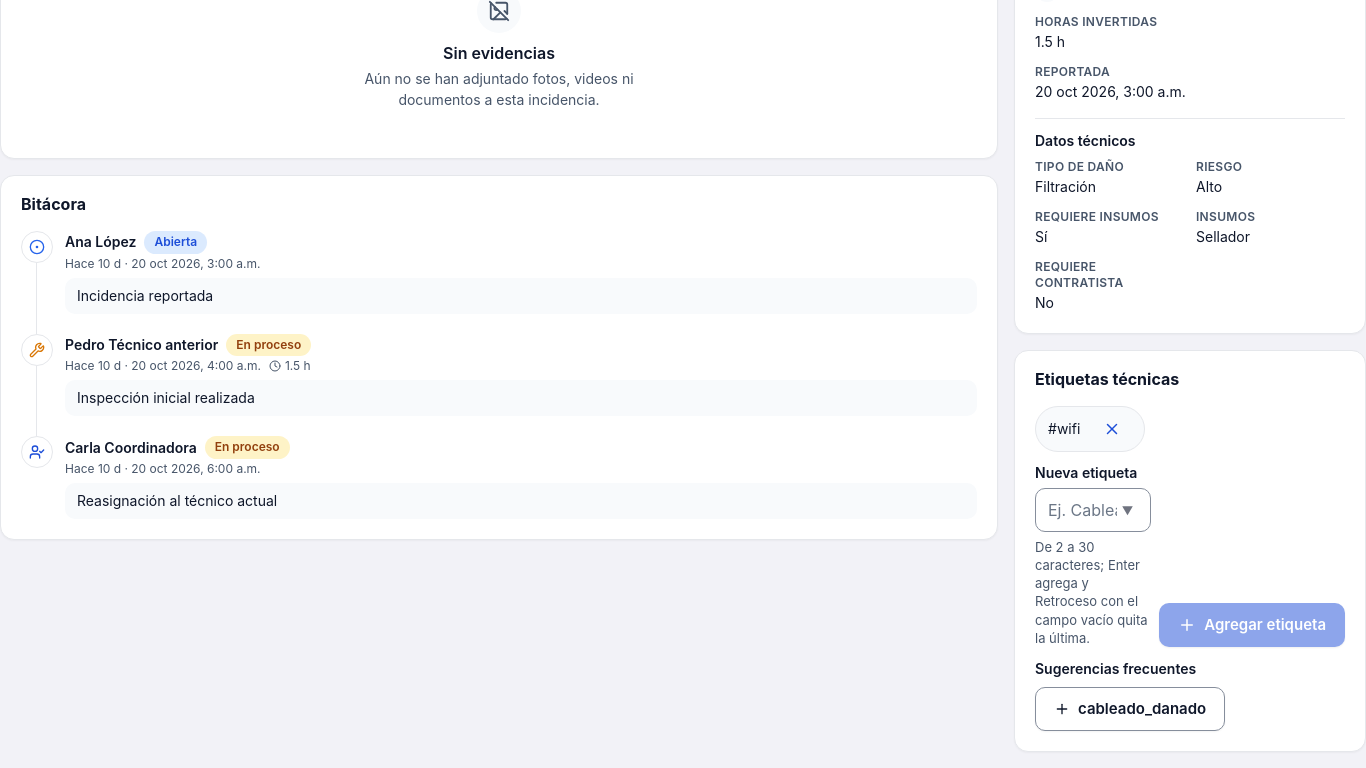
Scenario: EditorTags (T-053) › muestra autocompletado con datos reales cuando el usuario posee analitica:ver
(page scrolled)
Click the button with aria-label "Agregar sugerencia cableado_danado" at (1130, 709), box [1035,687,1225,731]
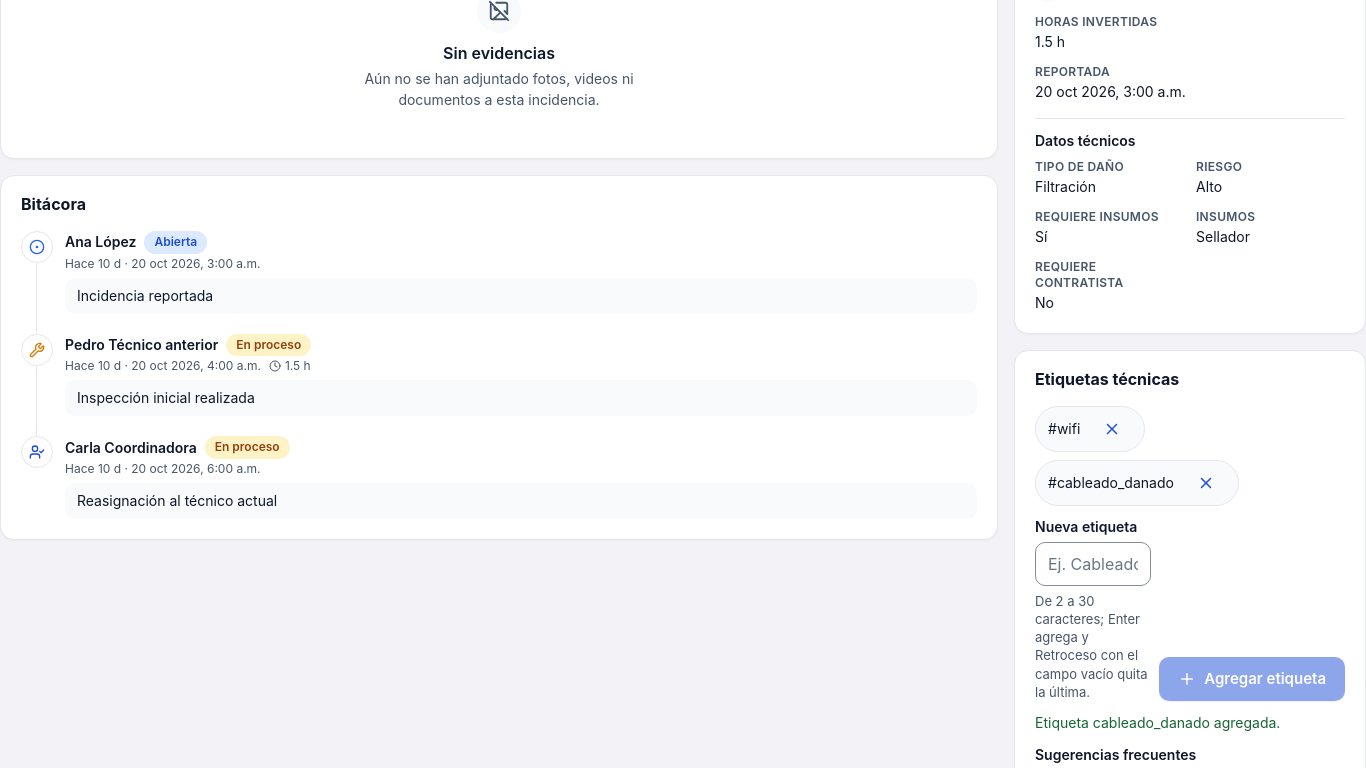
expect the text "#cableado_danado" is shown: met, box [1048,473,1174,493]
